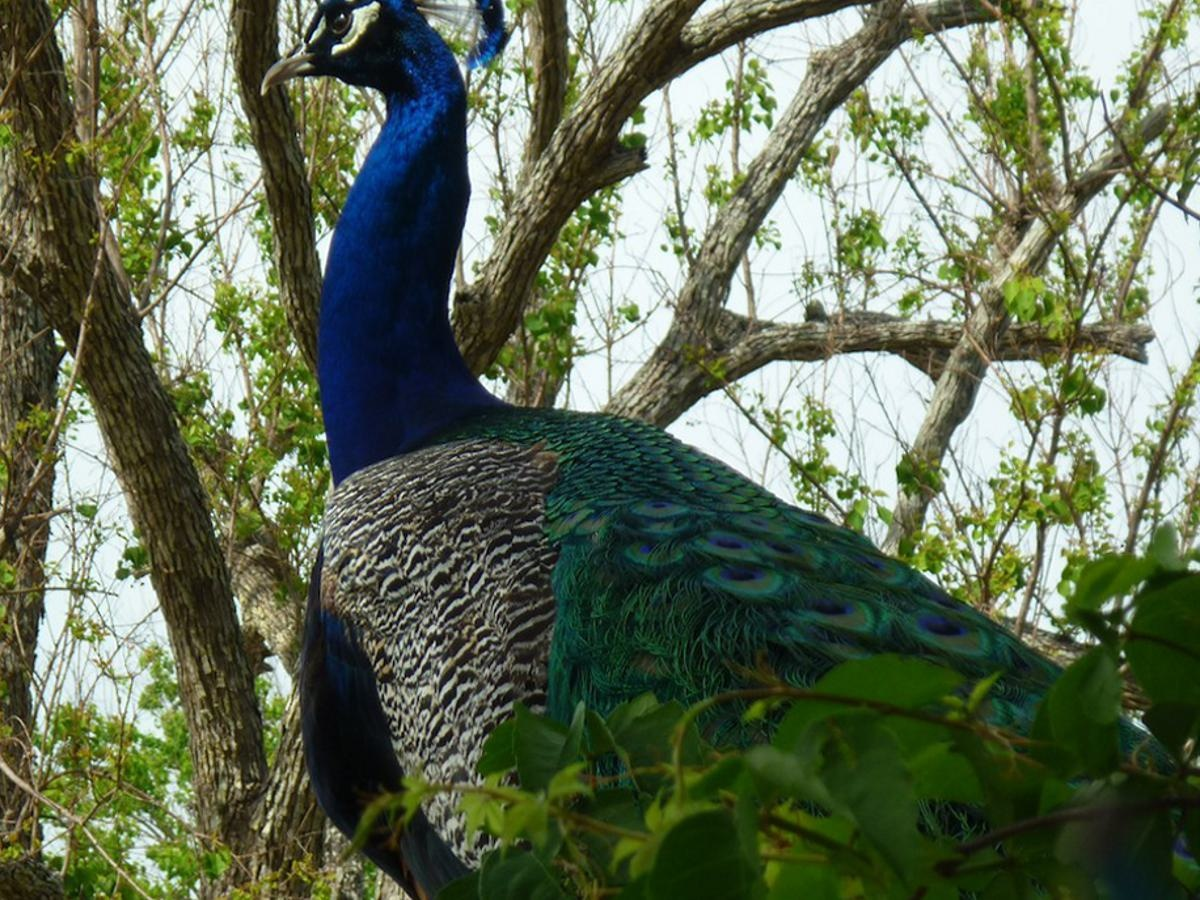peacock: (228, 3, 1000, 893)
